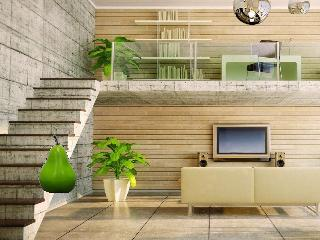pear: (36, 131, 80, 198)
